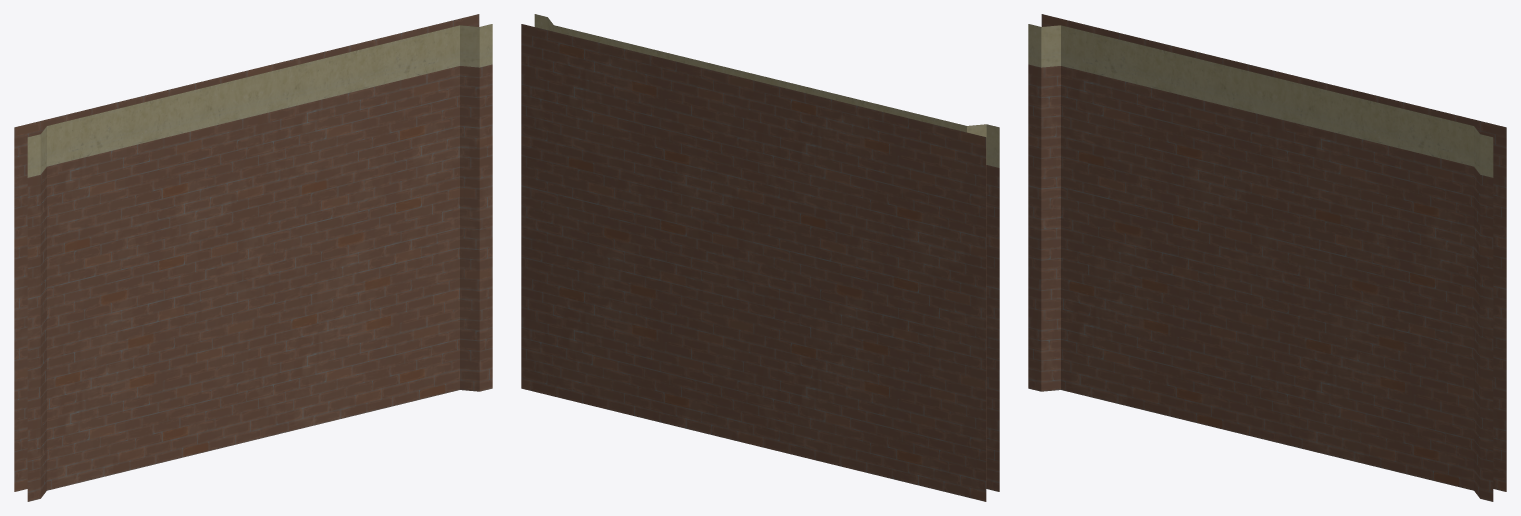
The model's file is brick_inset.glb.
3 views of the same model, side by side, from view 1: azimuth 30°, elevation 25°; view 2: azimuth 150°, elevation 25°; view 3: azimuth 330°, elevation 25° (orthographic).
Visible parts, largest first — view 1: Brick_Inset; view 2: Brick_Inset; view 3: Brick_Inset.
Part boxes in pixels (x1,y1,x2,y2): Brick_Inset: [14, 14, 492, 501]; Brick_Inset: [521, 14, 999, 501]; Brick_Inset: [1028, 14, 1506, 501].
Bounding box in the file's own units: 4 × 3 × 0.2.
Materials: 3 (3 with a texture image).
